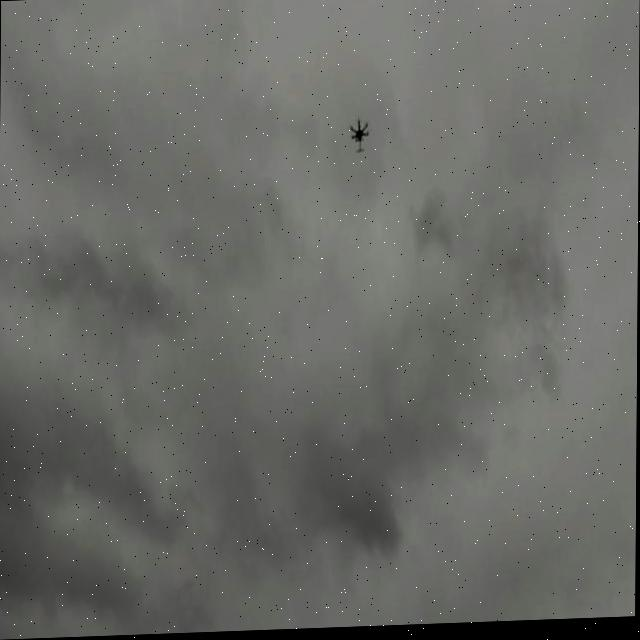drone: (348, 119, 371, 156)
